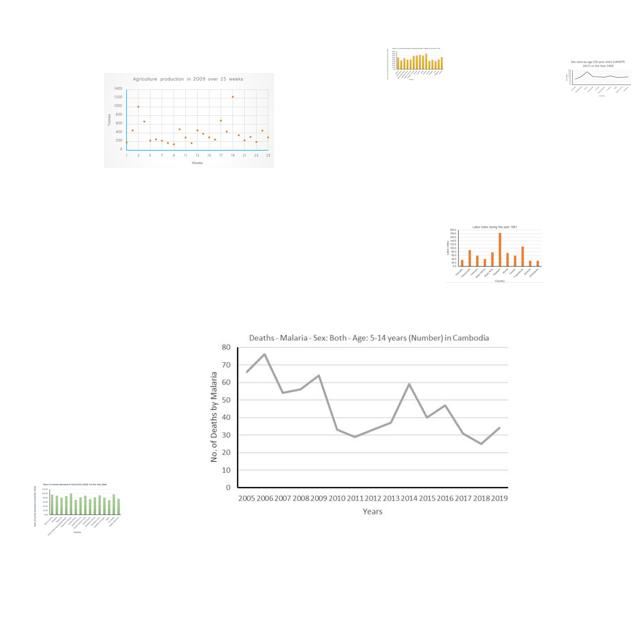Graph: (197, 329, 514, 518), (104, 73, 274, 168), (446, 225, 543, 283), (32, 482, 126, 537), (565, 60, 632, 98), (386, 47, 445, 82)
